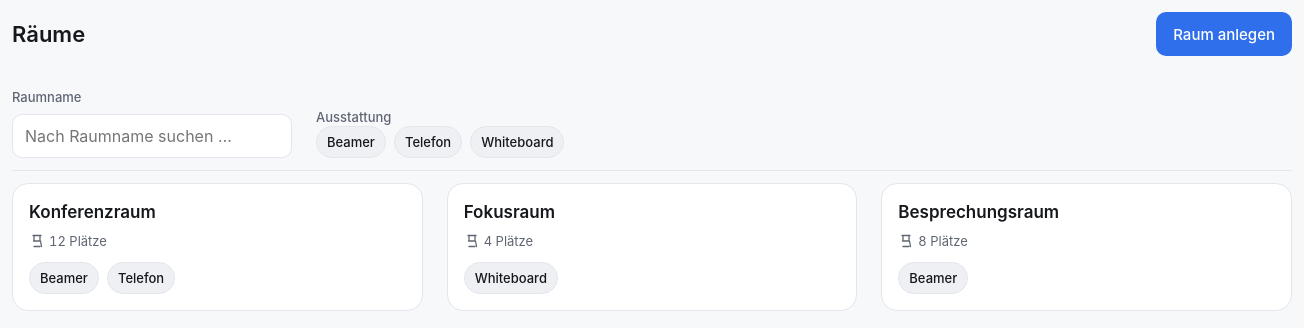
RoomsPage › shows a readable hint when no room matches the equipment filter
expect the text "Konferenzraum" is shown: met, box top-left (29, 202), bottom-right (156, 222)
Click the button "Beamer".
click(351, 142)  # box top-left (316, 126), bottom-right (386, 158)
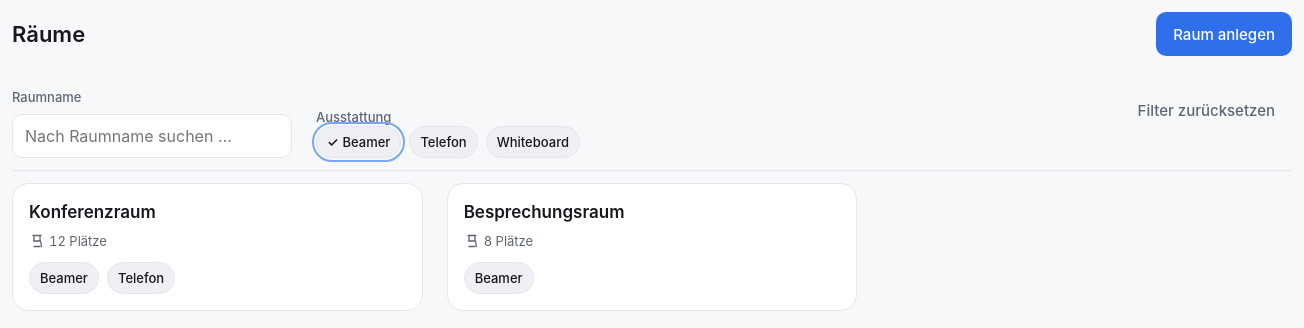
Click the button "Whiteboard".
click(533, 142)  # box top-left (486, 126), bottom-right (580, 158)
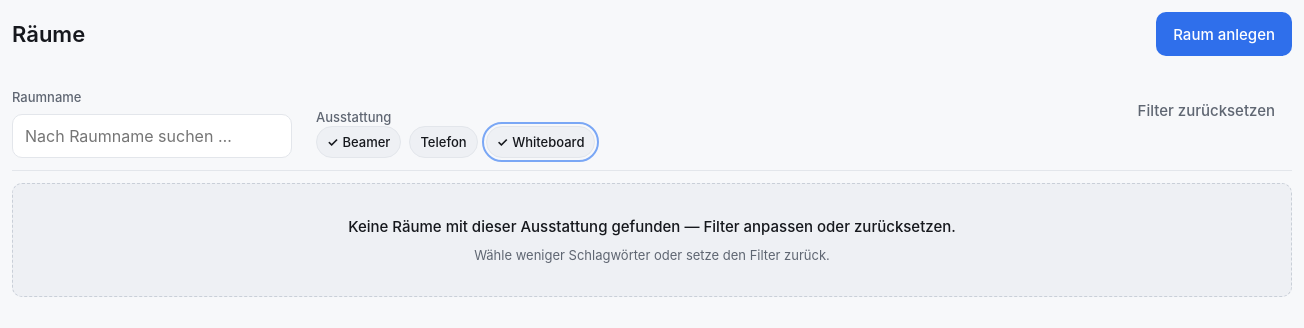
expect the text "Keine Räume mit dieser Ausstattung gefunden" is shown: met, box top-left (348, 217), bottom-right (956, 236)
